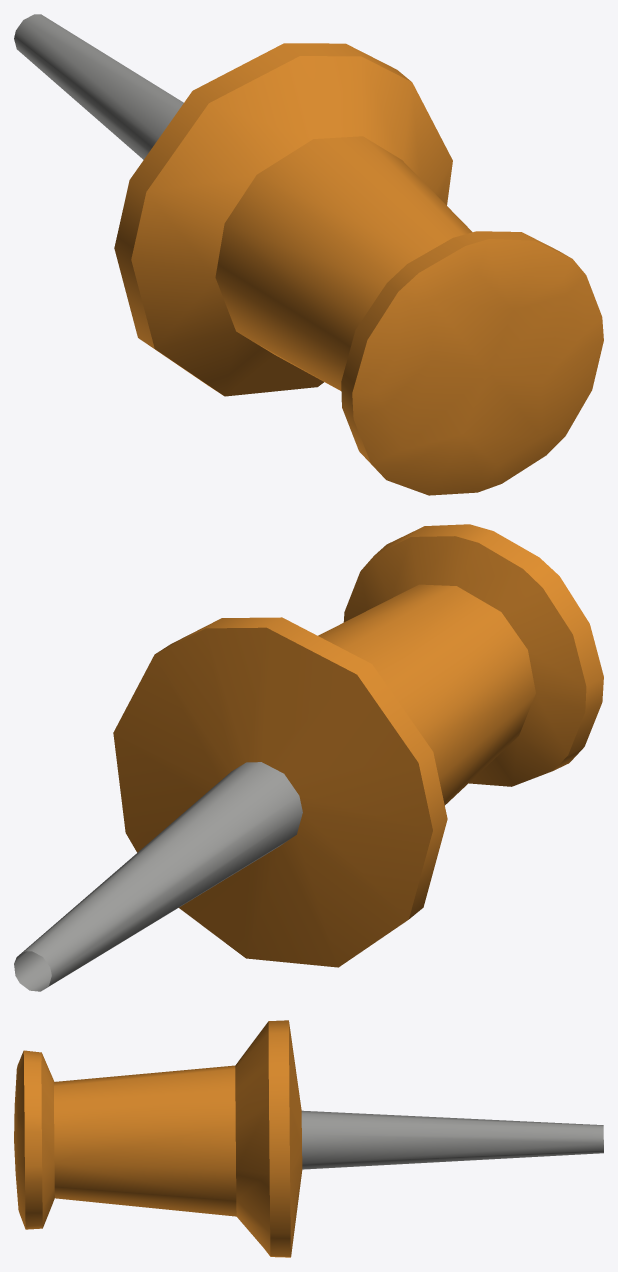
File: Pin.fbx
The picture shows the model from 3 angles, top to bottom: view 1: azimuth 30°, elevation 25°; view 2: azimuth 150°, elevation 25°; view 3: azimuth 270°, elevation 25°; orthographic projection. The views are drawn at different scales.
Visible parts, largest first — view 1: pin; view 2: pin; view 3: pin.
Boxes of the visible parts, x1,y1,x2,y2 form: pin: [14, 14, 603, 495]; pin: [14, 524, 603, 991]; pin: [14, 1020, 603, 1257].
Bounding box in the file's own units: 0.1219 × 0.1219 × 0.2981.
